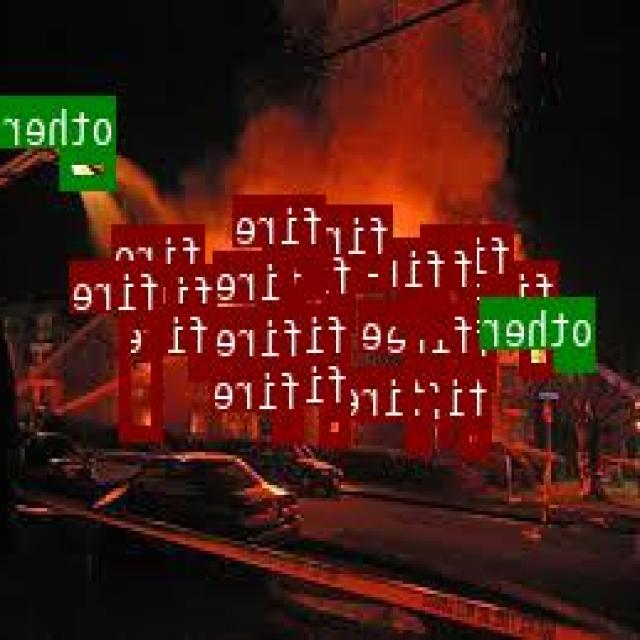fire: (123, 312, 164, 438), (398, 289, 452, 336), (406, 350, 454, 402), (141, 275, 205, 313), (522, 313, 558, 374), (285, 247, 328, 296), (482, 277, 516, 325), (276, 301, 309, 347), (274, 356, 306, 396), (322, 403, 352, 442), (361, 255, 394, 288), (325, 296, 357, 328), (462, 418, 492, 452), (274, 412, 306, 439), (409, 417, 432, 451), (326, 356, 352, 383), (460, 290, 477, 326), (196, 314, 219, 337), (192, 356, 215, 378), (481, 359, 499, 387), (461, 356, 477, 384), (443, 419, 452, 443)
other: (63, 146, 116, 188), (557, 347, 596, 368)
